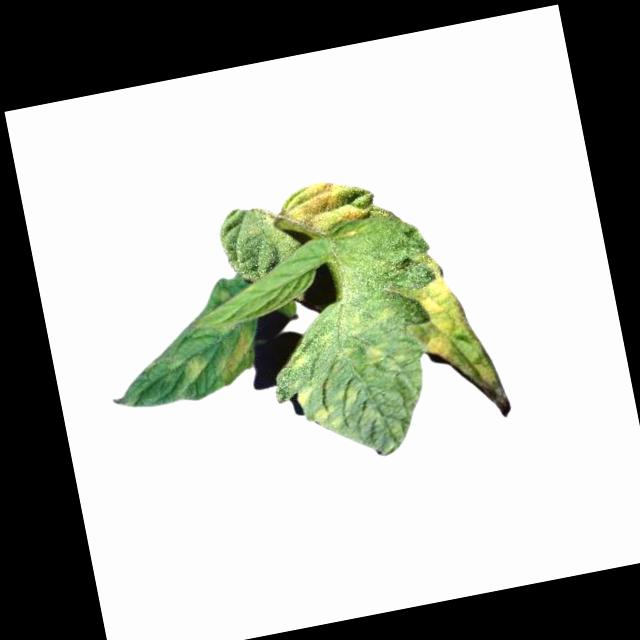Leaf_Mold: (275, 285, 437, 471), (406, 244, 499, 401), (275, 173, 370, 244), (210, 328, 260, 391), (180, 352, 206, 384)
